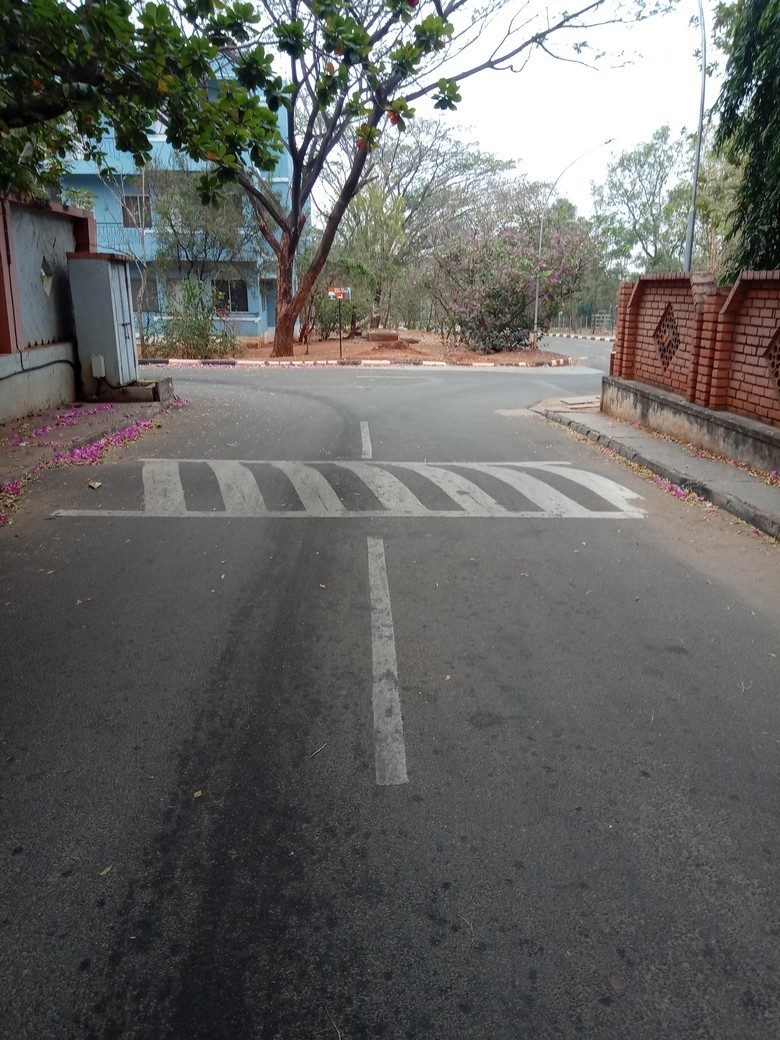bump: (33, 457, 659, 518)
